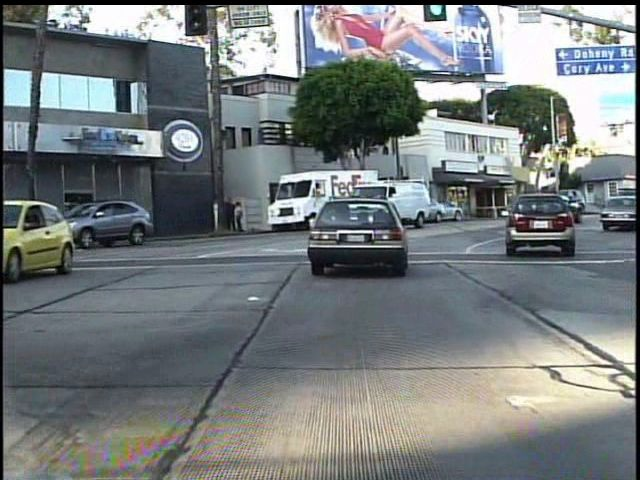person: (223, 194, 237, 234), (233, 200, 247, 234)
